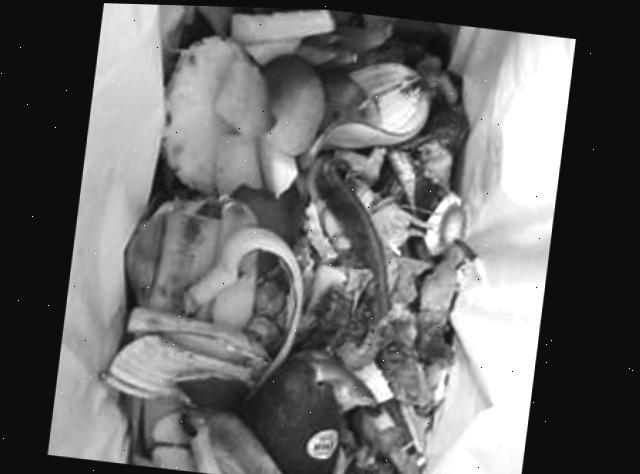Garbage: (105, 4, 470, 474)
